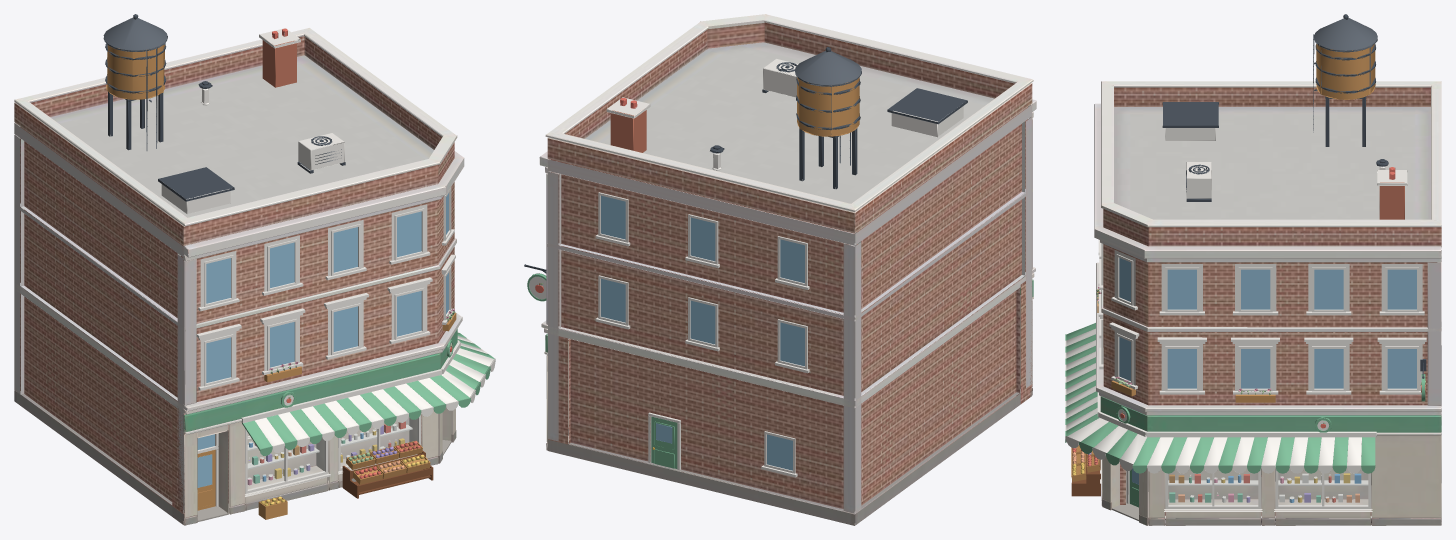
Rendered from corner-shop-light.glb.
The picture shows the model from 3 angles, left to right: view 1: azimuth 30°, elevation 25°; view 2: azimuth 150°, elevation 25°; view 3: azimuth 270°, elevation 25°; orthographic projection. The views are drawn at different scales.
Visible parts, largest first — view 1: corner-shop_body, corner-shop_windows, corner-shop_roof_items, corner-shop_awning, corner-shop_shop_glass, corner-shop_fruit_stand, corner-shop_details, corner-shop_display_goods, corner-shop_fruits; view 2: corner-shop_body, corner-shop_roof_items, corner-shop_windows, corner-shop_details; view 3: corner-shop_body, corner-shop_windows, corner-shop_awning, corner-shop_roof_items, corner-shop_shop_glass, corner-shop_display_goods, corner-shop_details, corner-shop_fruit_stand.
Part boxes in pixels (left/top/right/bottom): corner-shop_body: left=14, top=28, right=464, bottom=525; corner-shop_windows: left=196, top=187, right=456, bottom=496; corner-shop_roof_items: left=103, top=14, right=345, bottom=213; corner-shop_awning: left=241, top=331, right=495, bottom=455; corner-shop_shop_glass: left=248, top=418, right=416, bottom=488; corner-shop_fruit_stand: left=258, top=441, right=433, bottom=519; corner-shop_details: left=197, top=339, right=453, bottom=521; corner-shop_display_goods: left=247, top=421, right=412, bottom=485; corner-shop_fruits: left=261, top=441, right=428, bottom=506; corner-shop_body: left=539, top=14, right=1036, bottom=525; corner-shop_roof_items: left=606, top=47, right=967, bottom=189; corner-shop_windows: left=595, top=192, right=809, bottom=477; corner-shop_details: left=524, top=264, right=680, bottom=471; corner-shop_body: left=1094, top=81, right=1441, bottom=525; corner-shop_windows: left=1096, top=240, right=1426, bottom=511; corner-shop_awning: left=1065, top=323, right=1376, bottom=473; corner-shop_roof_items: left=1162, top=14, right=1407, bottom=219; corner-shop_shop_glass: left=1169, top=469, right=1367, bottom=504; corner-shop_display_goods: left=1168, top=473, right=1368, bottom=502; corner-shop_details: left=1112, top=359, right=1426, bottom=520; corner-shop_fruit_stand: left=1071, top=445, right=1100, bottom=496.
Size of the model in its own units: 13.35 by 15.79 by 13.35.
21 materials, 1 textured.
